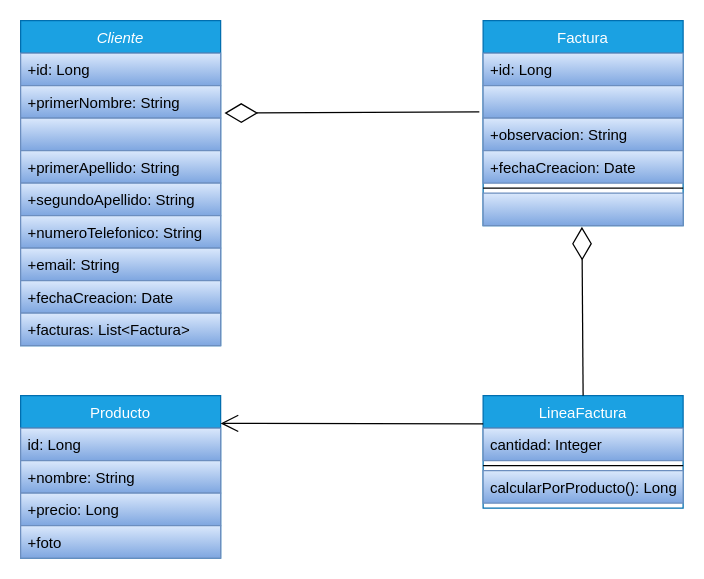
Some shapes in this 704 by 579 pixel diagram are drawn without their labels. The centre of each missing label's shape, as x and y in pixels:
+calcularTotal(): Long: the point at 582,209
+descripcion: String: the point at 582,101
+segundoNombre: String: the point at 120,134
